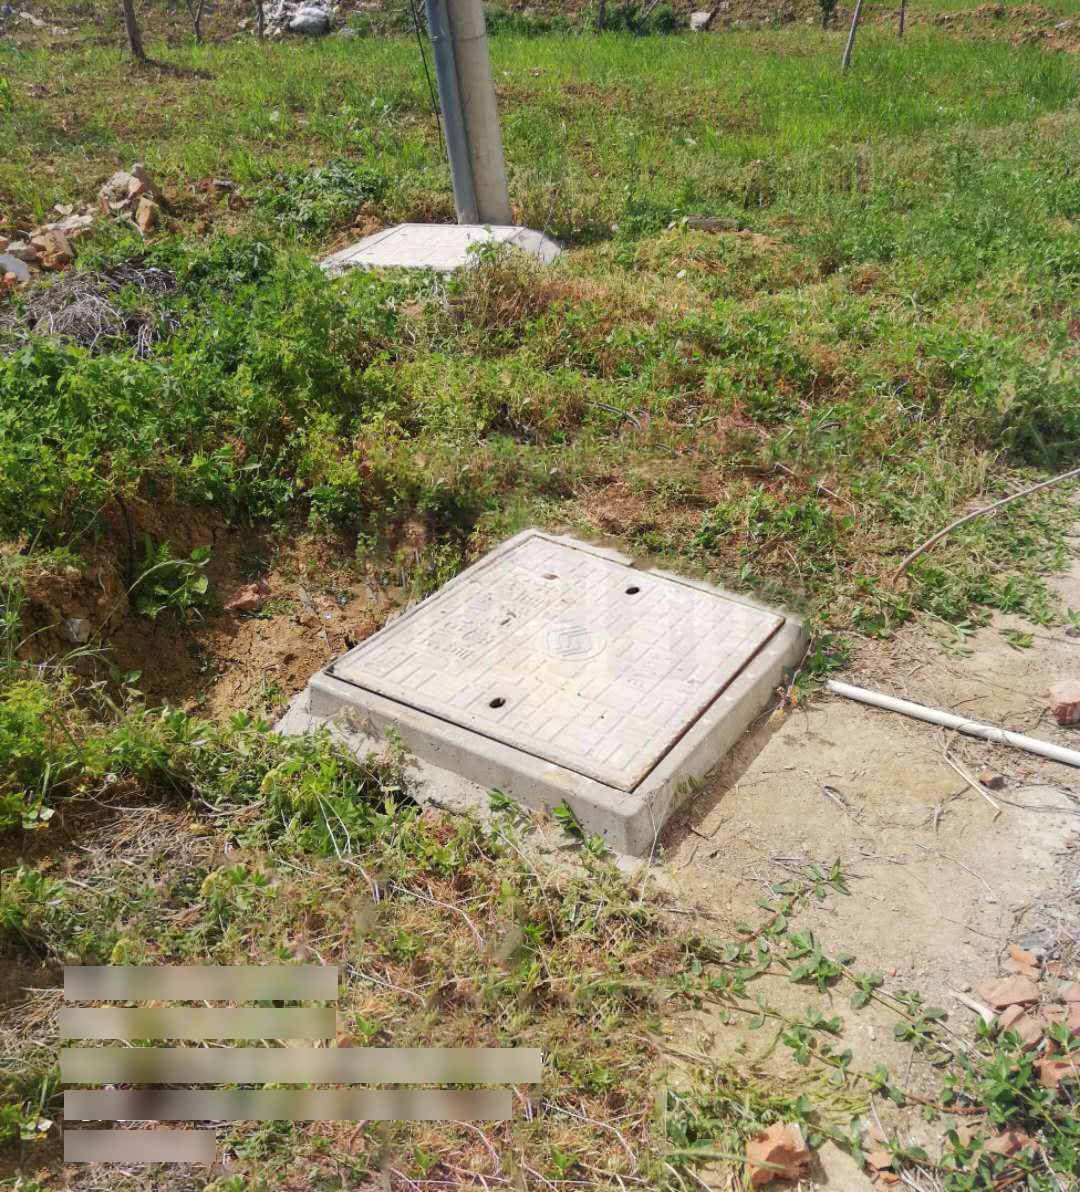good: (307, 525, 810, 838)
